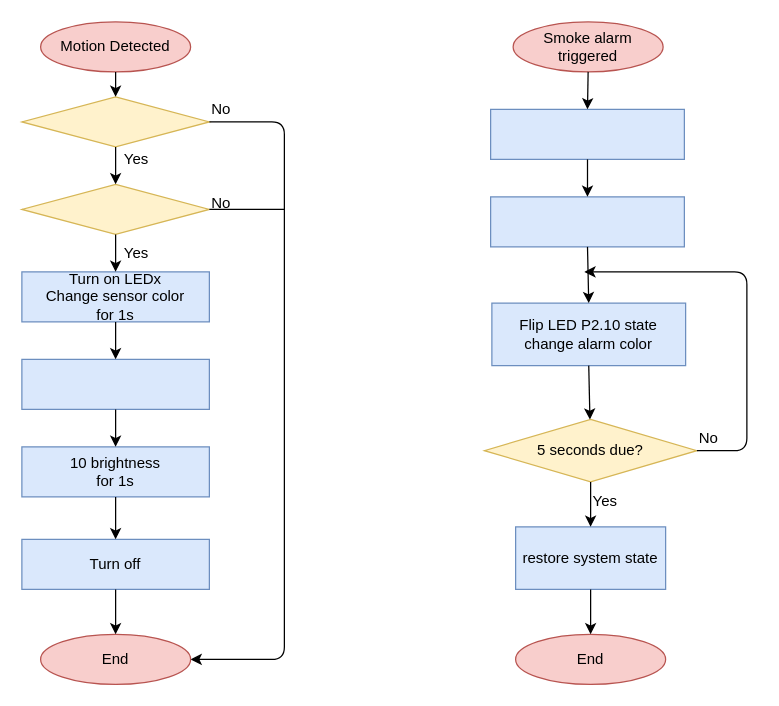
The diagram is 779 pixels wide and 706 high, and some of its shapes have lost their labels. The shapes that lost their labels are listed below. From the top down, each one's centre as x and y in pixels, then its label:
point 115,121: Master switch is on?
point 586,133: Store current state
point 115,208: LEDx switch is off?
point 586,221: change screen background color
point 115,383: 50% brightness for 1s
